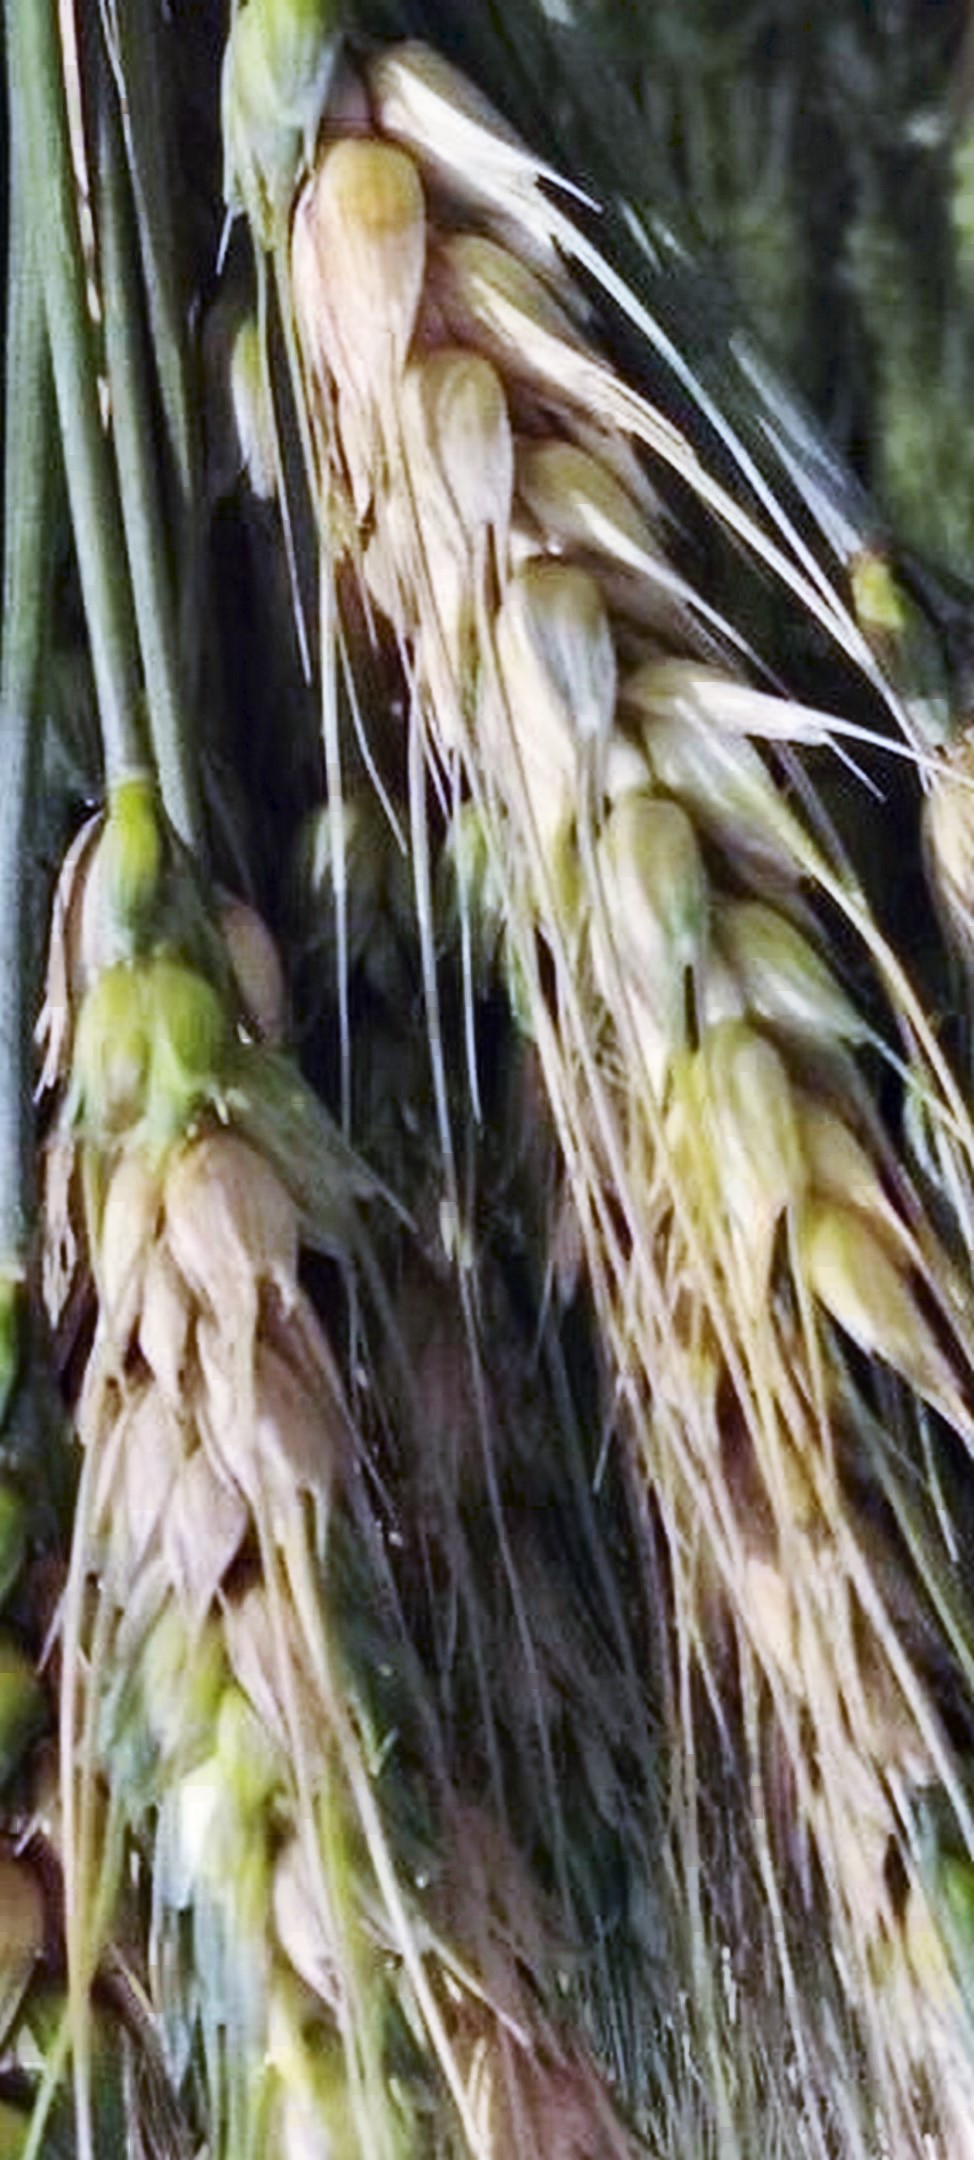Wheat scab: (17, 747, 466, 2105)
